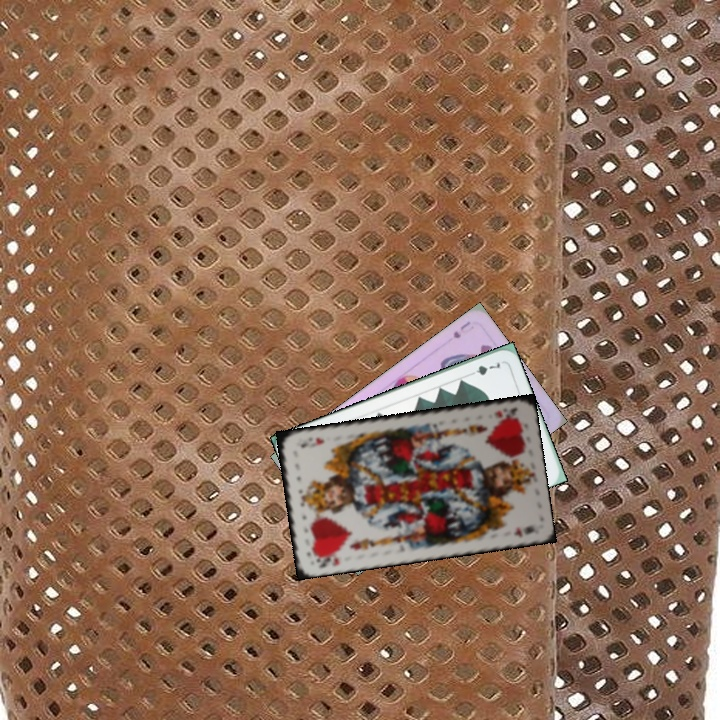G7: (464, 358, 503, 379)
HK: (310, 549, 342, 571), (490, 403, 521, 423)
SU: (449, 317, 473, 341)
